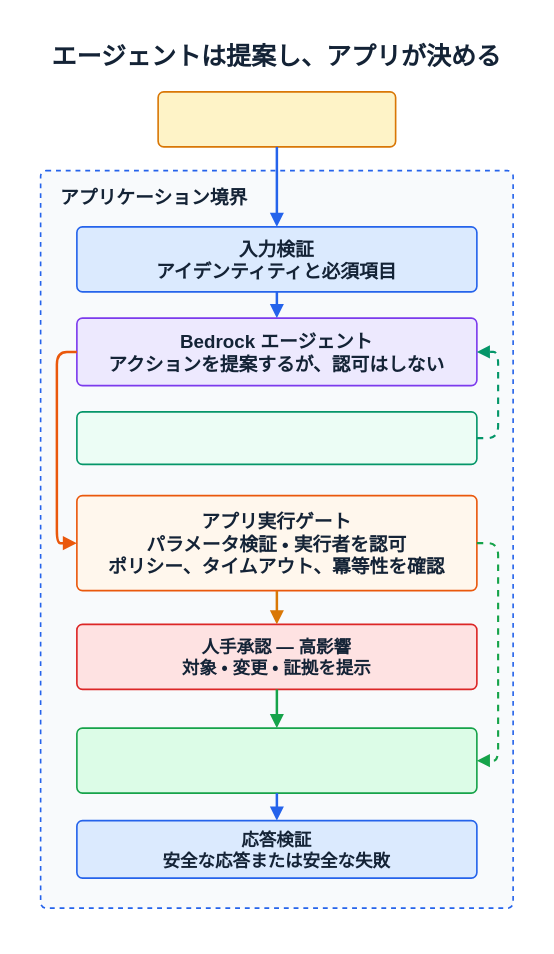
The diagram is 554 pixels wide and 954 high, and some of its shapes have lost their labels. Here are the shapes that lost their labels. From the top down, the centre of each, then its label:
At point (276, 118): "ユーザー リクエスト".
At point (276, 437): "知識取得 — 読み取り専用コンテキスト".
At point (276, 760): "許可済みツール / API 承認済みまたは低影響の実行".
